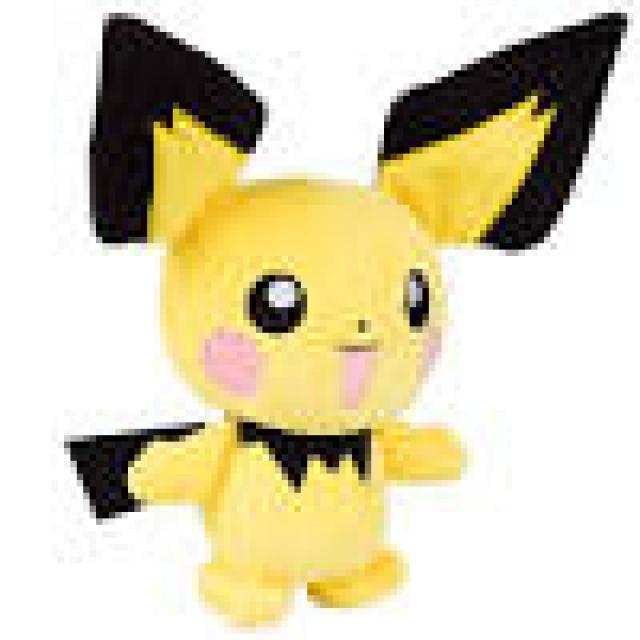pichu: (66, 3, 626, 640)
